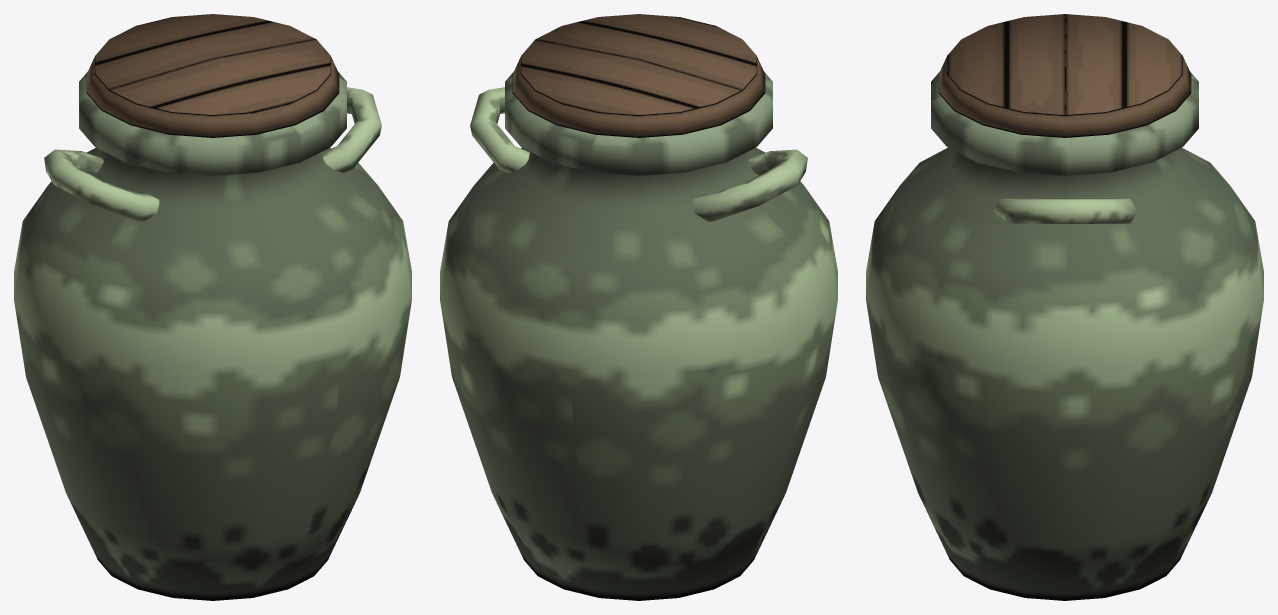
File: deco_winter_jarCap.FBX
The picture shows the model from 3 angles, left to right: view 1: azimuth 30°, elevation 25°; view 2: azimuth 150°, elevation 25°; view 3: azimuth 270°, elevation 25°; orthographic projection.
Visible parts, largest first — view 1: deco_winter_jarCap; view 2: deco_winter_jarCap; view 3: deco_winter_jarCap.
Part boxes in pixels (x1,y1,x2,y2): deco_winter_jarCap: (14, 14, 411, 600); deco_winter_jarCap: (440, 14, 837, 600); deco_winter_jarCap: (866, 14, 1263, 600).
Size of the model in its own units: 1.72 by 2.32 by 1.7.
Materials: 1 (1 with a texture image).
